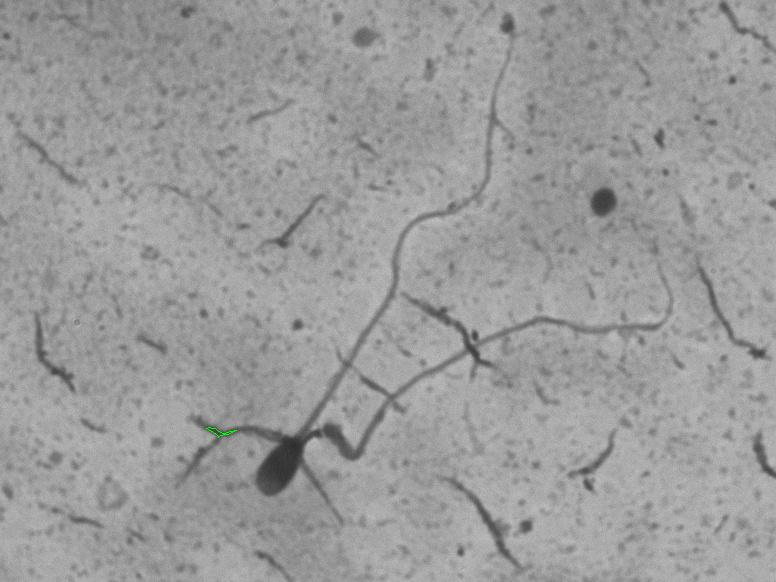Normal: (238, 28, 531, 508)
